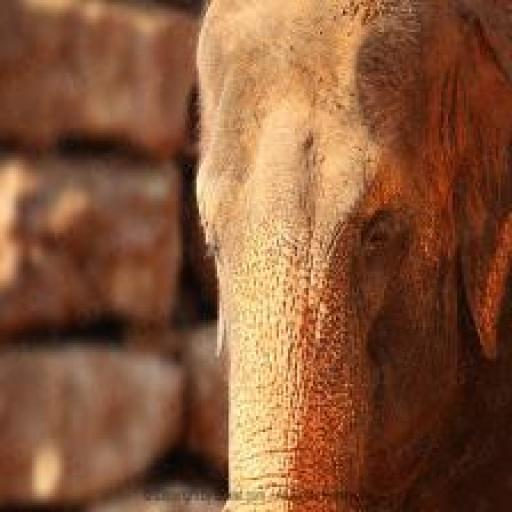Elephant: (171, 7, 512, 511)
